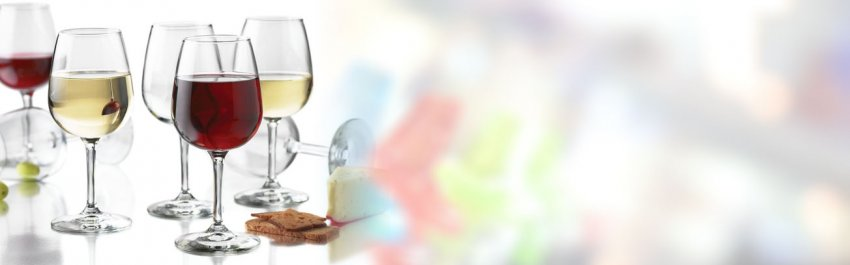Nonrec_Glass: (1, 8, 396, 253), (39, 24, 145, 240), (163, 43, 269, 250)
